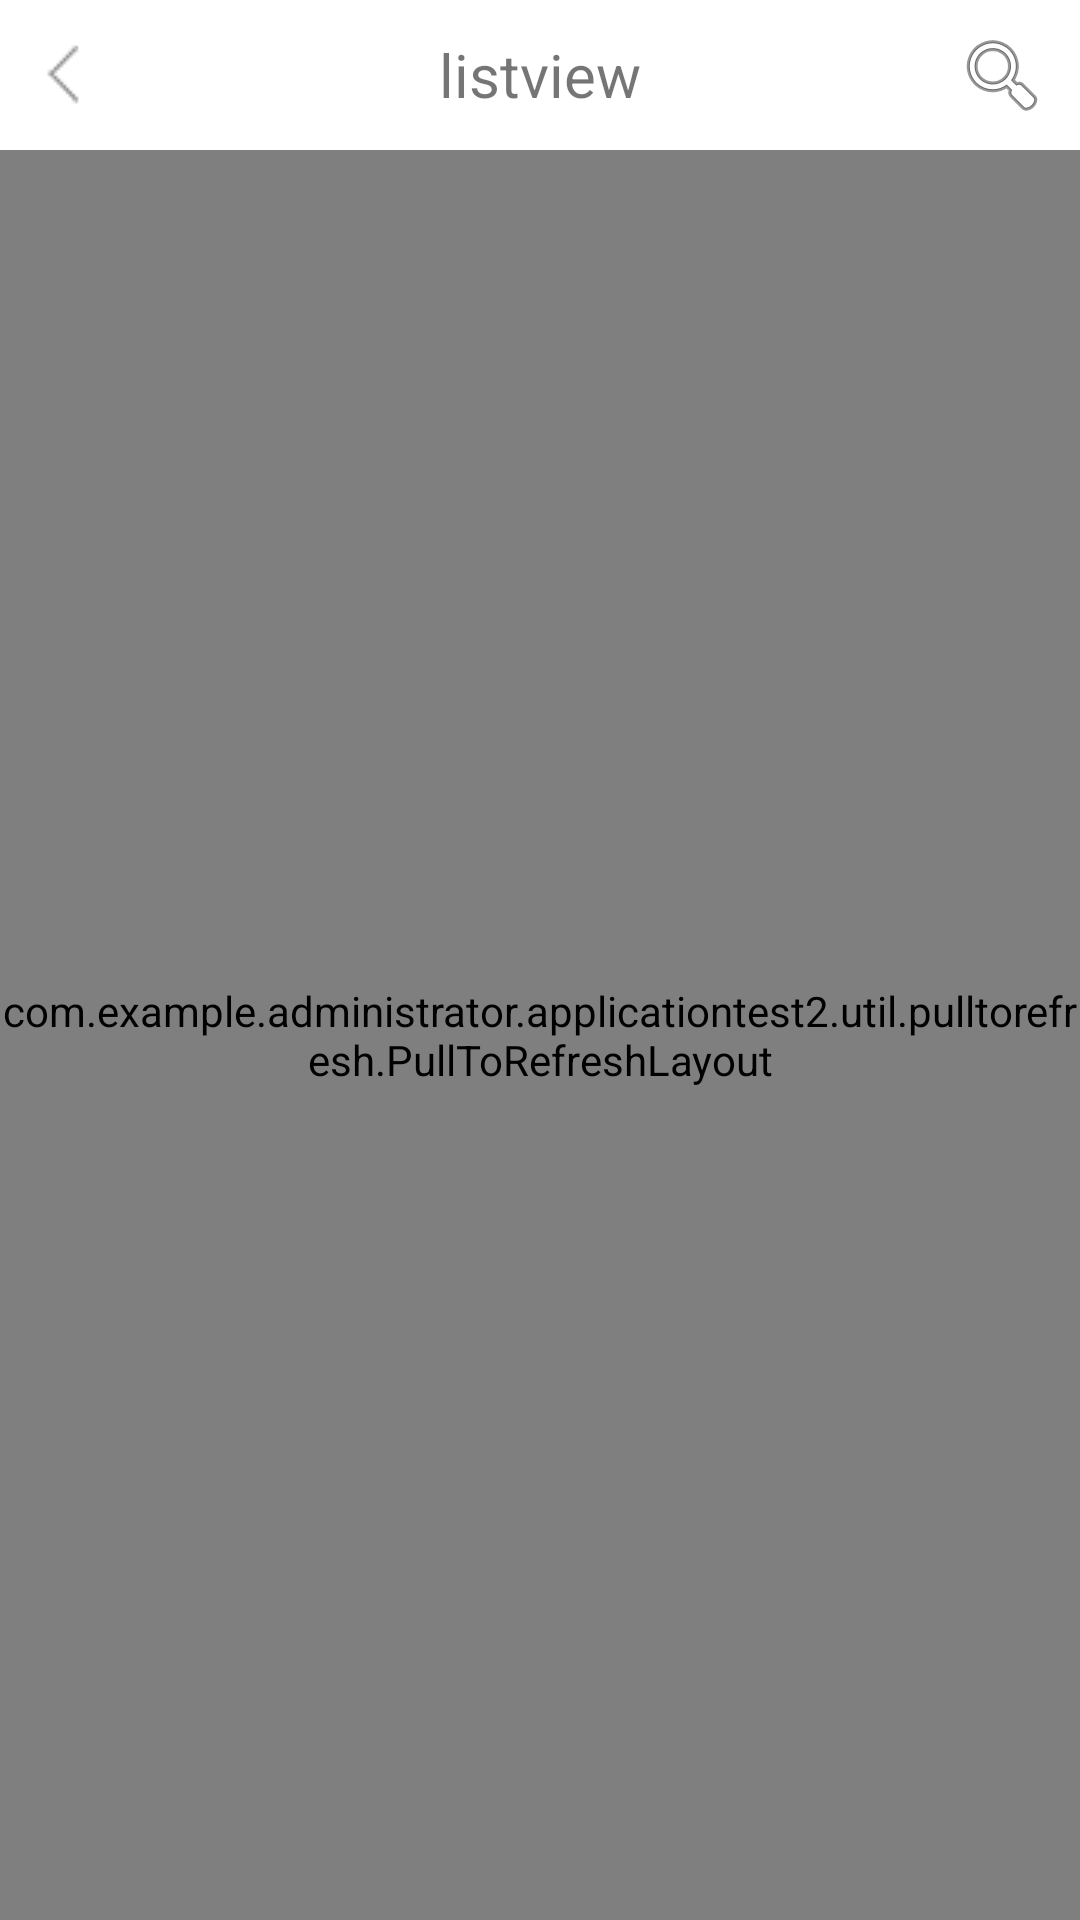

Screen size 1080px×1920px. Icon name, then its center in pixels as (x=x, y=y):
search: (x=1002, y=75)
